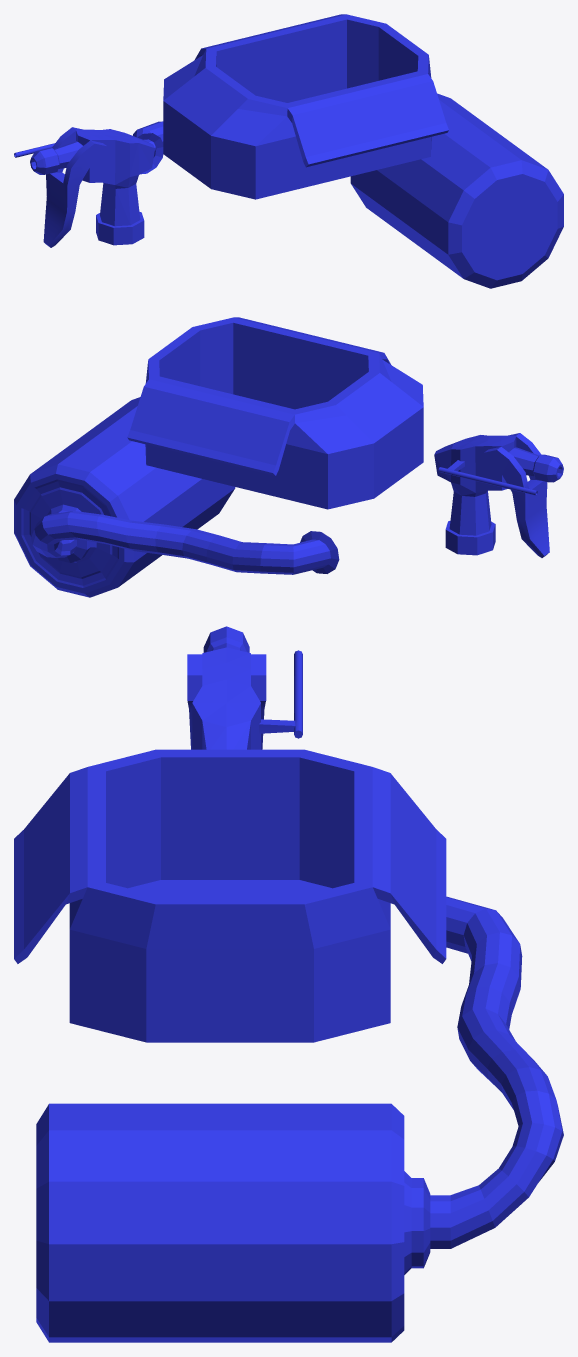
Rendered from TankHead_Tanky_Group.FBX.
3 renders of one model, top to bottom at view 1: azimuth 30°, elevation 25°; view 2: azimuth 150°, elevation 25°; view 3: azimuth 270°, elevation 25°, orthographic. The views are drawn at different scales.
Visible parts, largest first — view 1: TankHead_Tanky, TankStorage_Tanky, TankTurret_Tanky; view 2: TankHead_Tanky, TankStorage_Tanky, TankTurret_Tanky; view 3: TankStorage_Tanky, TankHead_Tanky, TankTurret_Tanky.
Boxes of the visible parts, left/top/right/bottom form: TankHead_Tanky: left=163, top=14, right=448, bottom=199; TankStorage_Tanky: left=133, top=93, right=563, bottom=288; TankTurret_Tanky: left=14, top=127, right=154, bottom=247; TankHead_Tanky: left=127, top=317, right=423, bottom=509; TankStorage_Tanky: left=14, top=397, right=339, bottom=597; TankTurret_Tanky: left=434, top=433, right=563, bottom=557; TankStorage_Tanky: left=36, top=896, right=563, bottom=1342; TankHead_Tanky: left=14, top=749, right=446, bottom=1042; TankTurret_Tanky: left=187, top=626, right=302, bottom=749.
Size of the model in its own units: 186 by 81.21 by 105.
